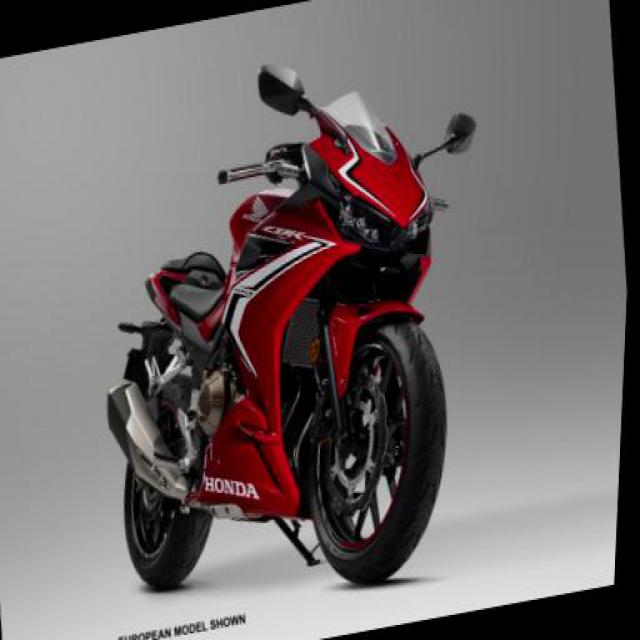CBR500R: (72, 68, 482, 632)
